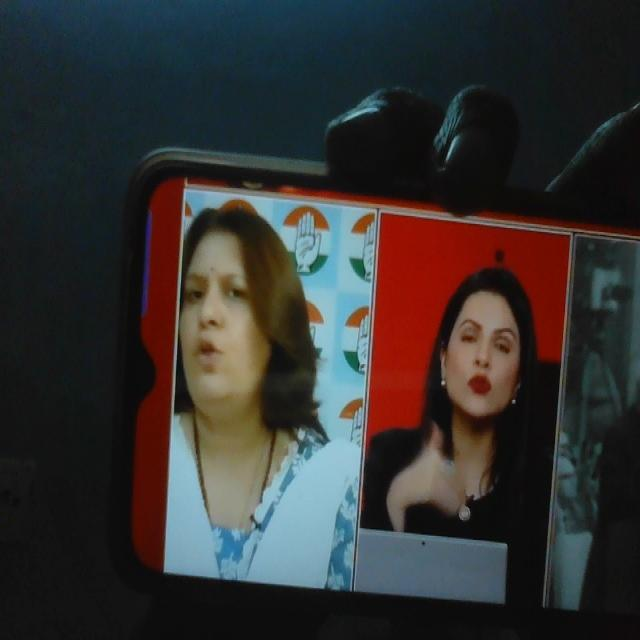fake: (171, 190, 289, 414), (435, 237, 546, 448)
